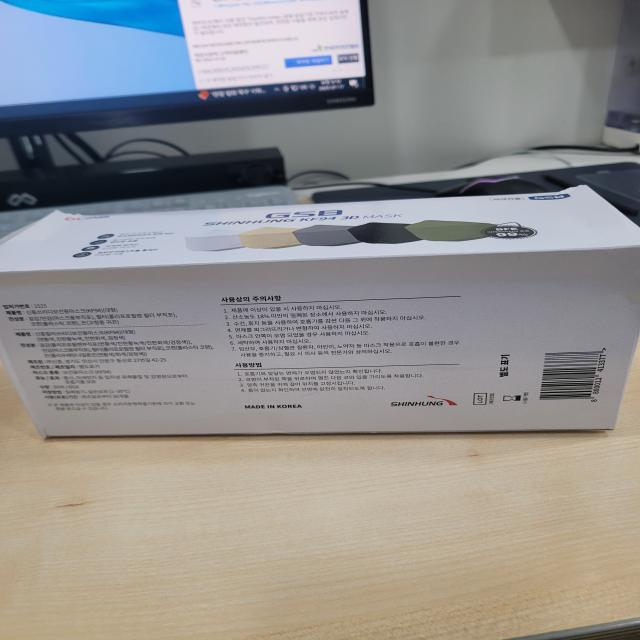mask: (0, 175, 640, 450)
